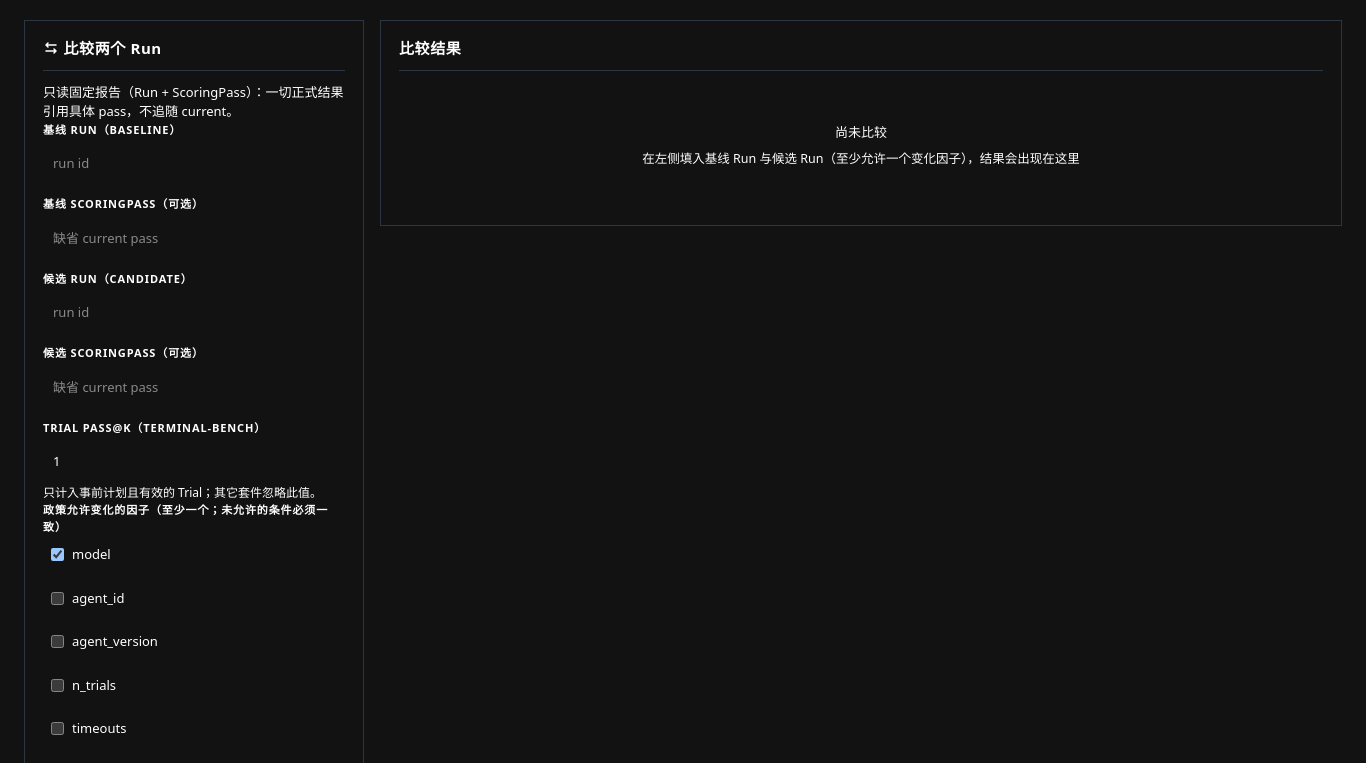
ComparePage › 比较响应缺固定 Pass 引用时不发起可能漂移的统计读取
Type "run-a" into the field labelled "基线 Run（baseline）" at (194, 164), box [43,148,345,180]
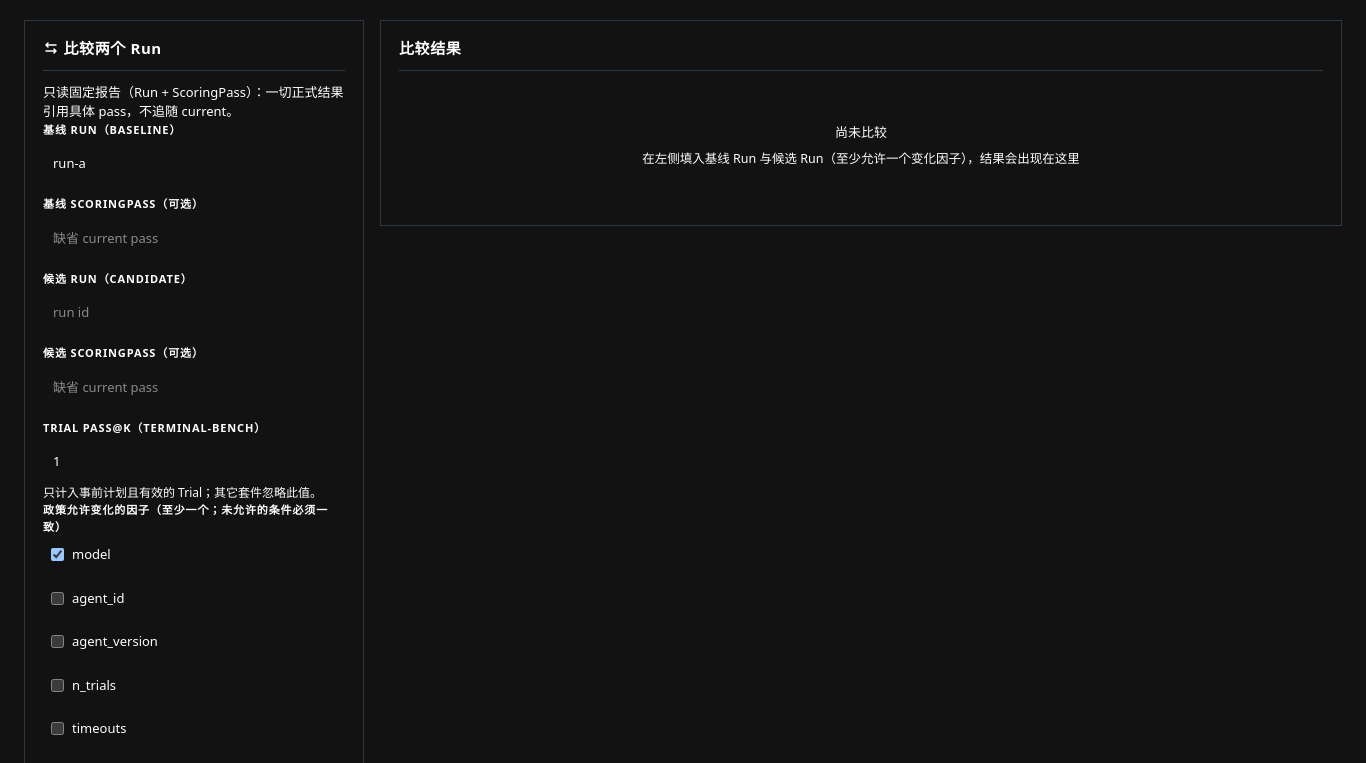
Type "run-b" into the field labelled "候选 Run（candidate）" at (194, 313), box [43,297,345,329]
(page scrolled)
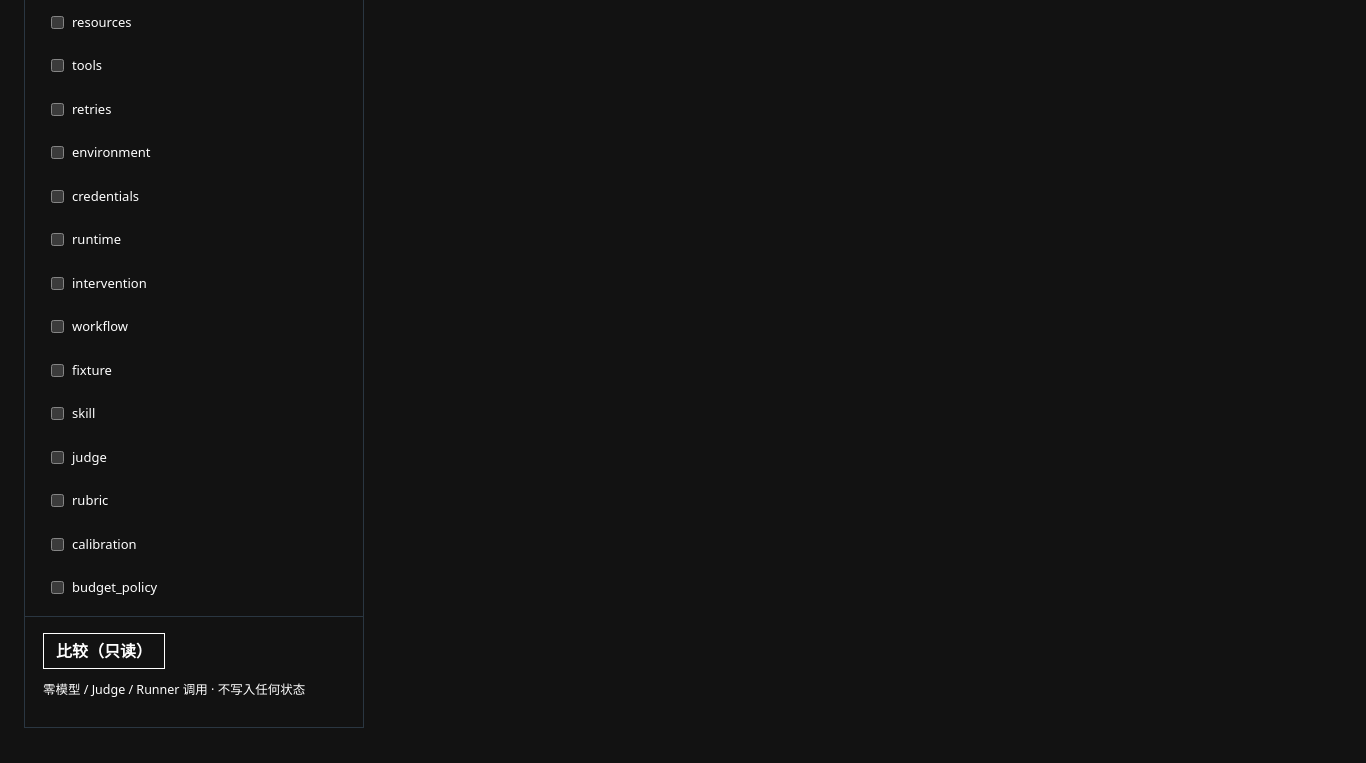
Click the button with test id "compare-submit" at (104, 650), box [43,632,165,668]
(page scrolled)
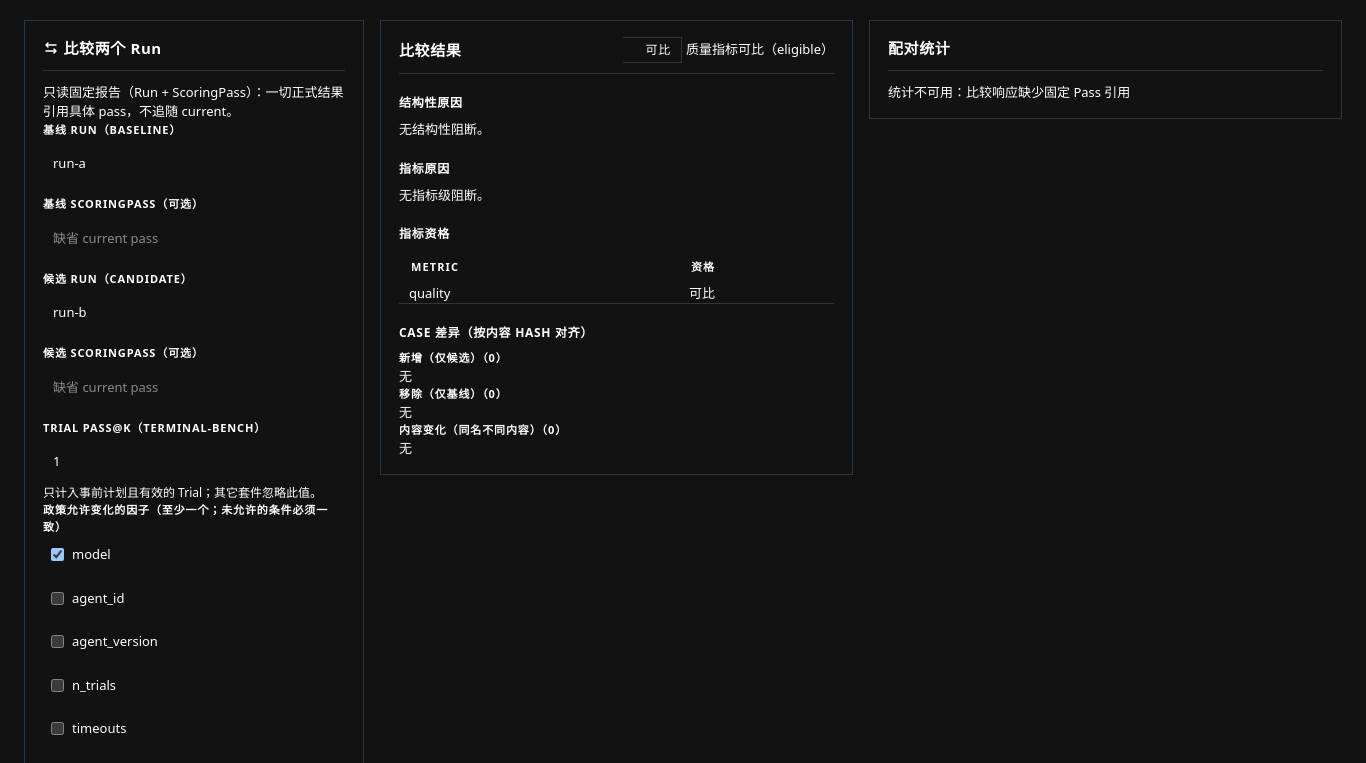
Now the message "统计不可用：比较响应缺少固定 Pass 引用" is shown, box [888,82,1130,100]
Now the element with test id "compare-result" is shown, box [380,20,853,475]
